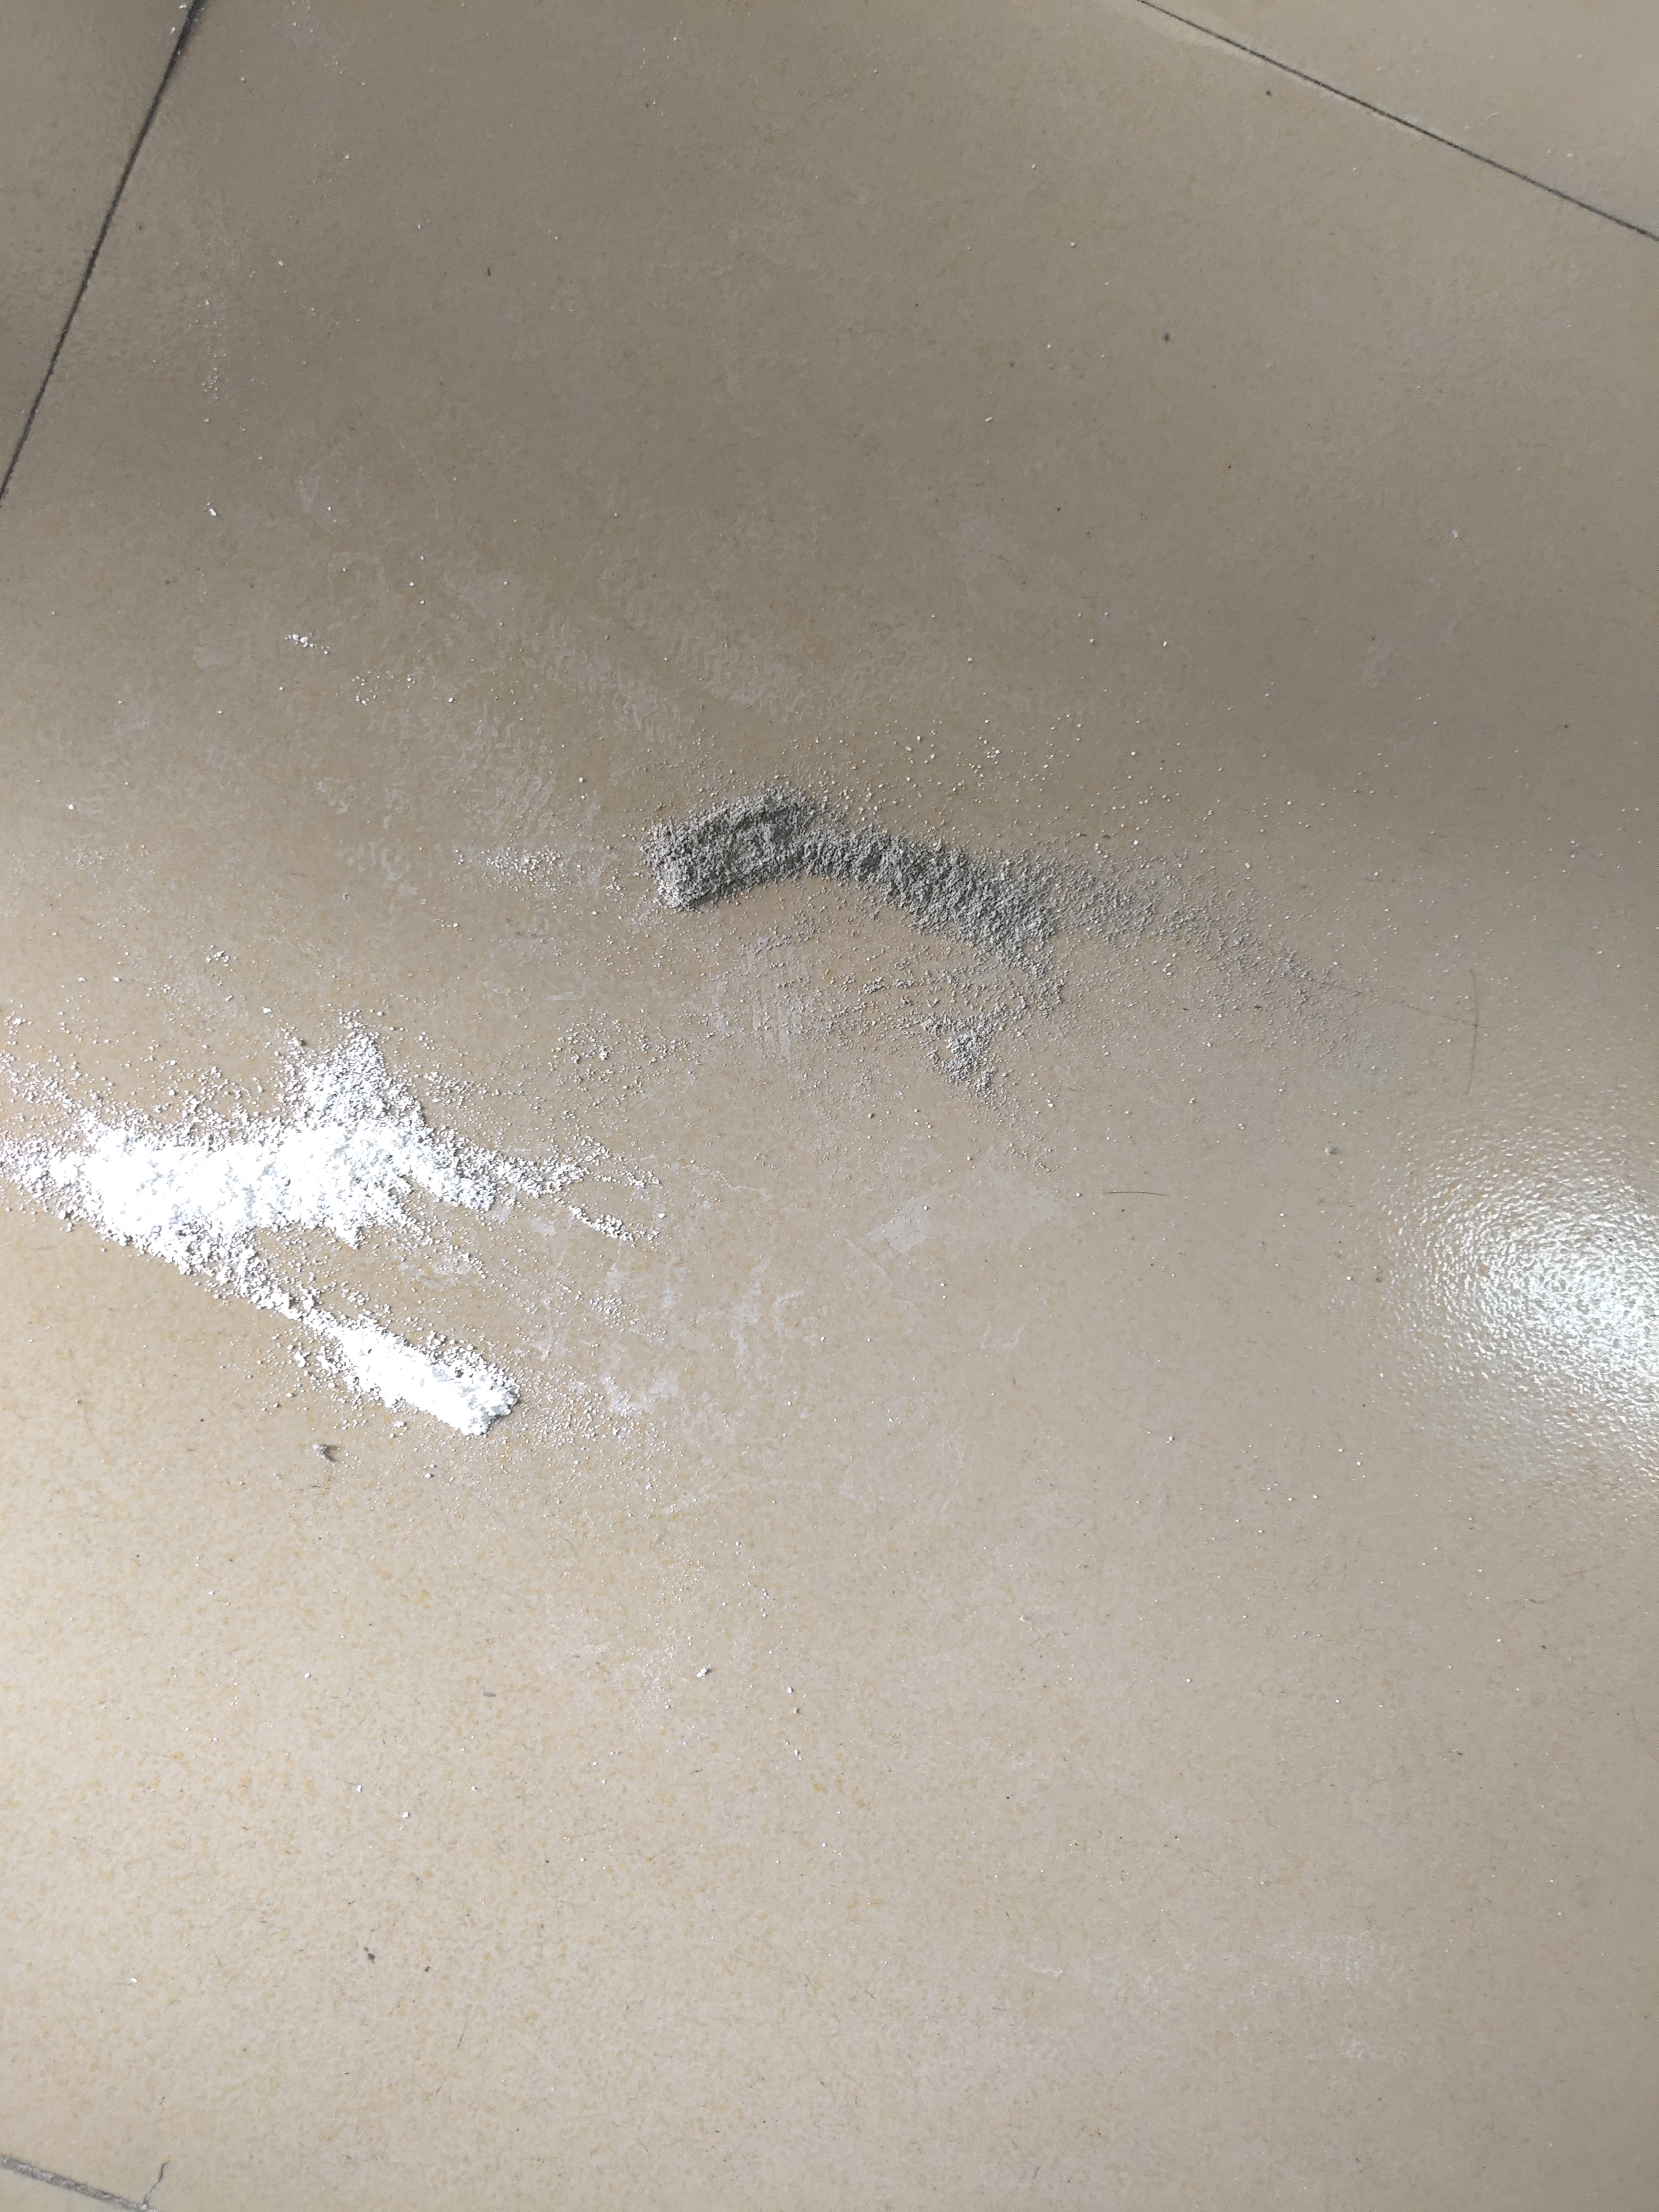ash pile: (3, 1007, 673, 1440), (655, 787, 1333, 1097)
reflection: (1396, 1151, 1659, 1433)
